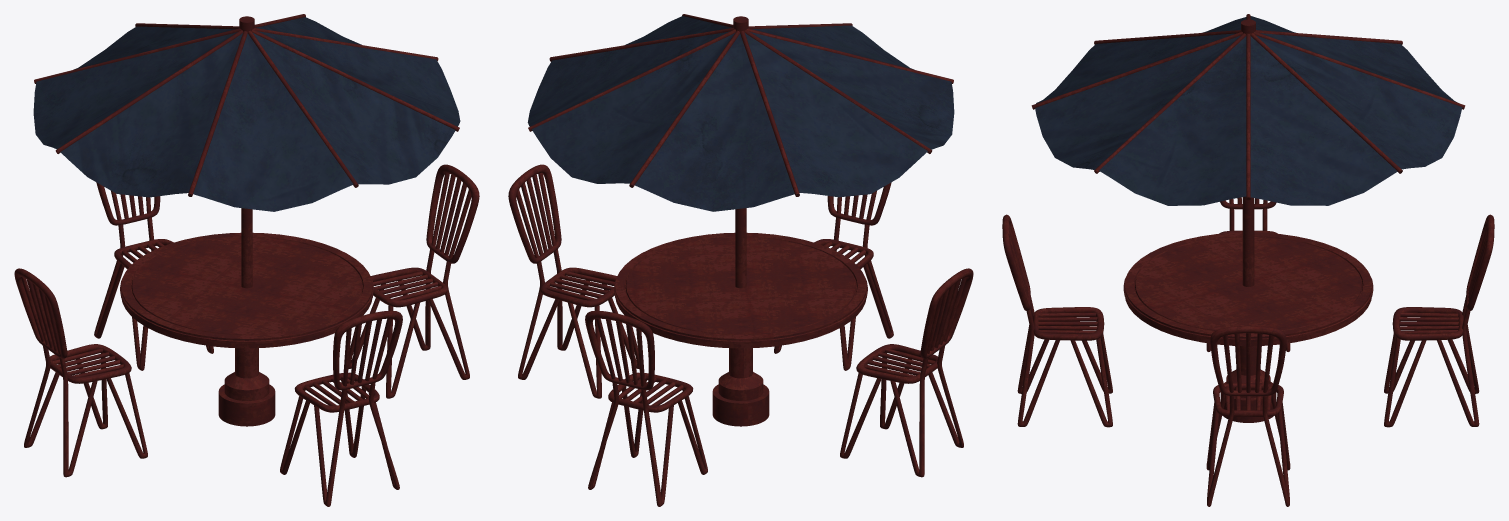
File: OUTDOOR TABLE 1.fbx
The picture shows the model from 3 angles, left to right: view 1: azimuth 30°, elevation 25°; view 2: azimuth 150°, elevation 25°; view 3: azimuth 270°, elevation 25°; orthographic projection.
Parts seen in each view (by area): view 1: OUTDOOR TABLE 1; view 2: OUTDOOR TABLE 1; view 3: OUTDOOR TABLE 1.
Boxes of the visible parts, x1,y1,x2,y2 form: OUTDOOR TABLE 1: (14,14,479,506); OUTDOOR TABLE 1: (508,14,973,506); OUTDOOR TABLE 1: (1002,14,1494,506).
Bounding box in the file's own units: 312 × 272 × 312.
